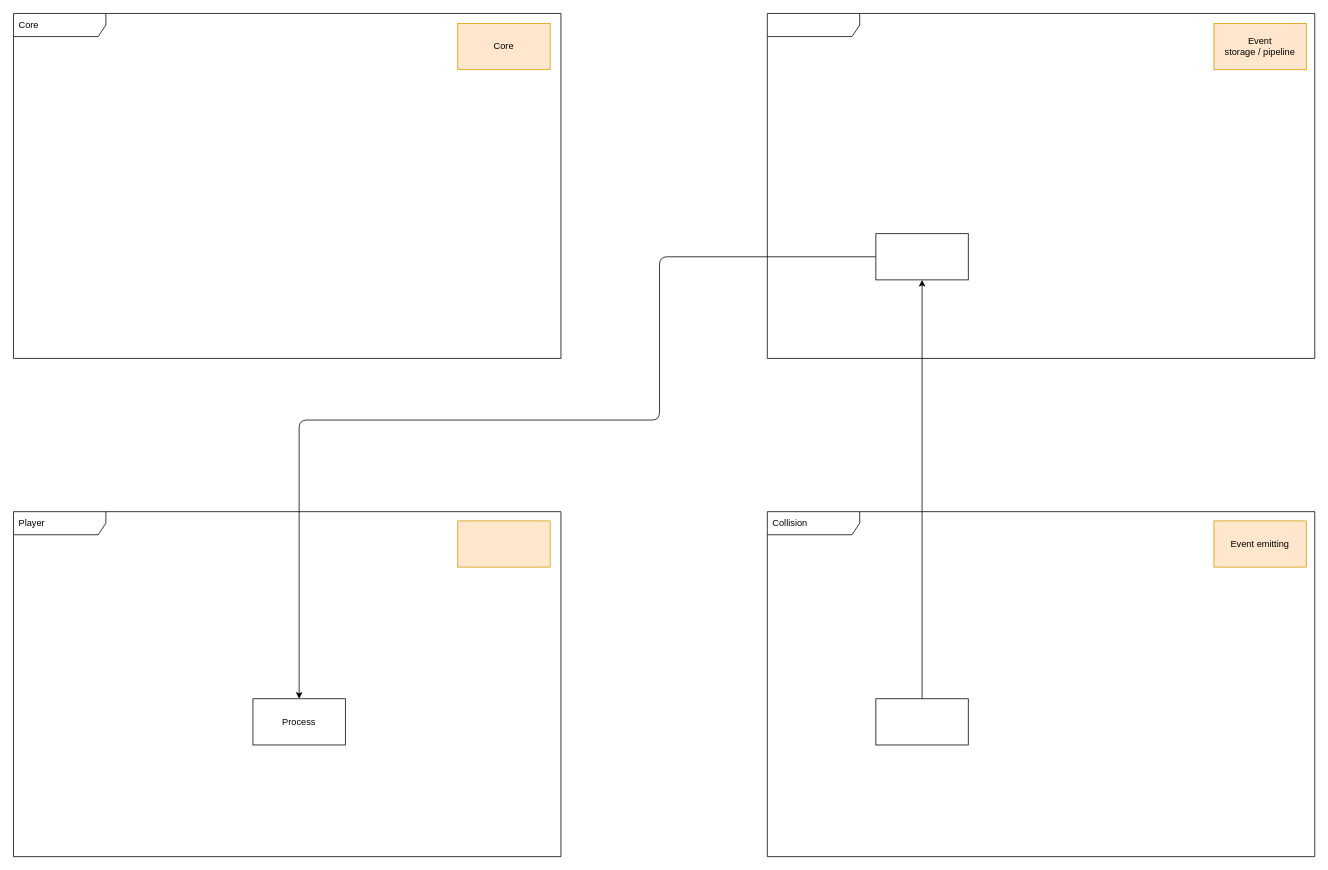
The diagram is 1328 pixels wide and 870 high, and some of its shapes have lost their labels. Each missing label, with the box of its shape:
Common: (767, 13, 1315, 358)
Emits: (875, 698, 968, 745)
Event handling: (457, 520, 550, 567)
Handler: (875, 233, 968, 280)
